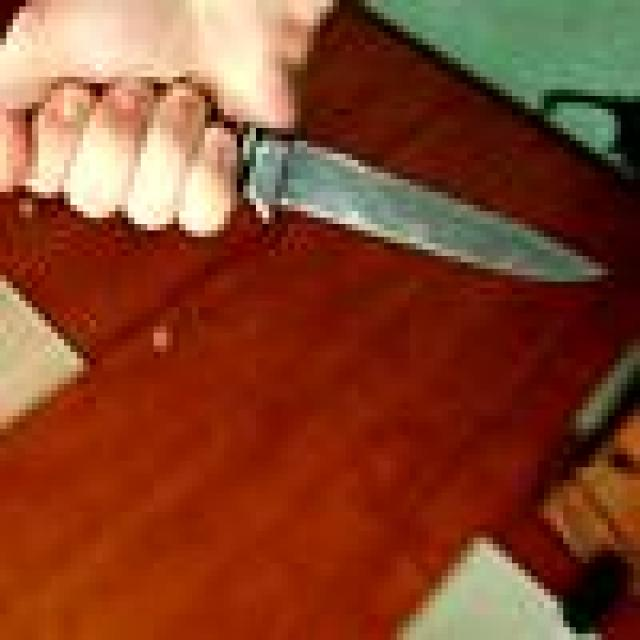weapon: (32, 77, 608, 294)
